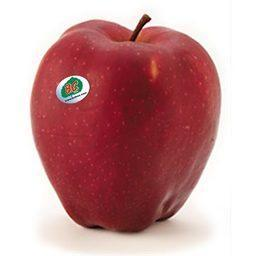apple: (28, 18, 222, 232)
